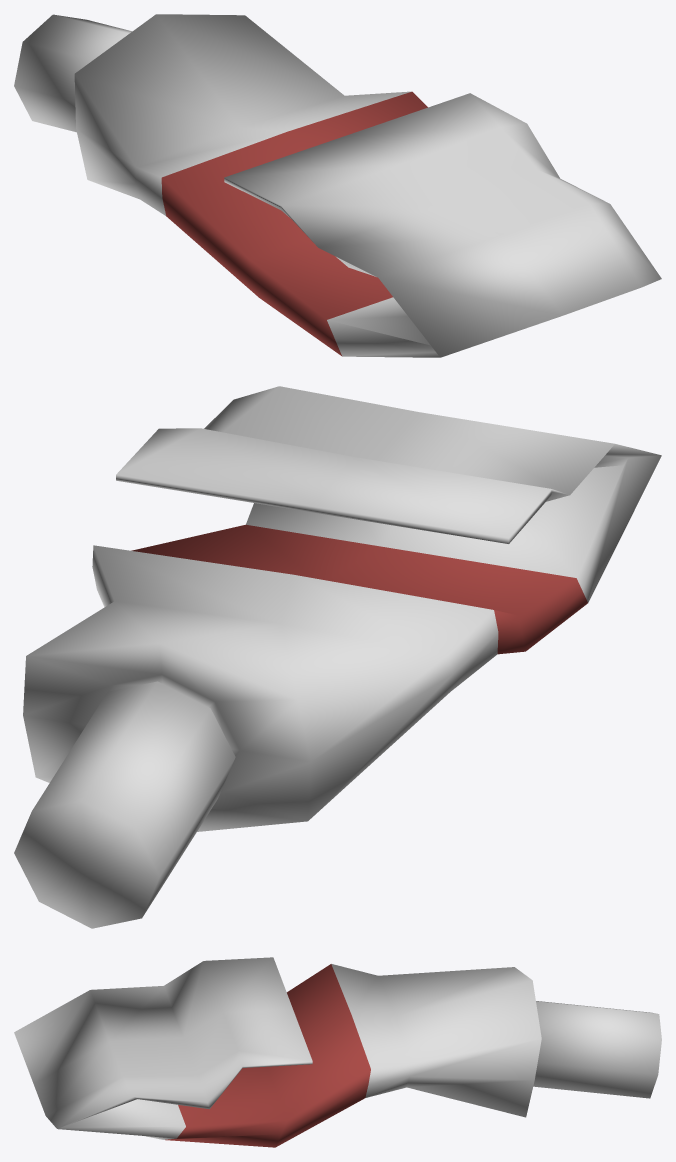
File: foodtube_B.glb
3 views of the same model, one above another, from view 1: azimuth 30°, elevation 25°; view 2: azimuth 150°, elevation 25°; view 3: azimuth 270°, elevation 25° (orthographic). The views are drawn at different scales.
Parts seen in each view (by area): view 1: prop_foodtubeempty; view 2: prop_foodtubeempty; view 3: prop_foodtubeempty.
Boxes of the visible parts, bbox=[...] form: prop_foodtubeempty: bbox=[14, 14, 661, 357]; prop_foodtubeempty: bbox=[14, 386, 661, 928]; prop_foodtubeempty: bbox=[14, 957, 661, 1147].
Size of the model in its own units: 0.0601 by 0.0279 by 0.132.
